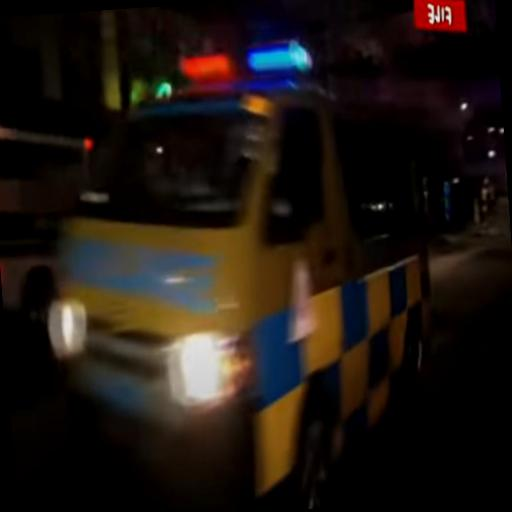Police car: (31, 34, 442, 512)
